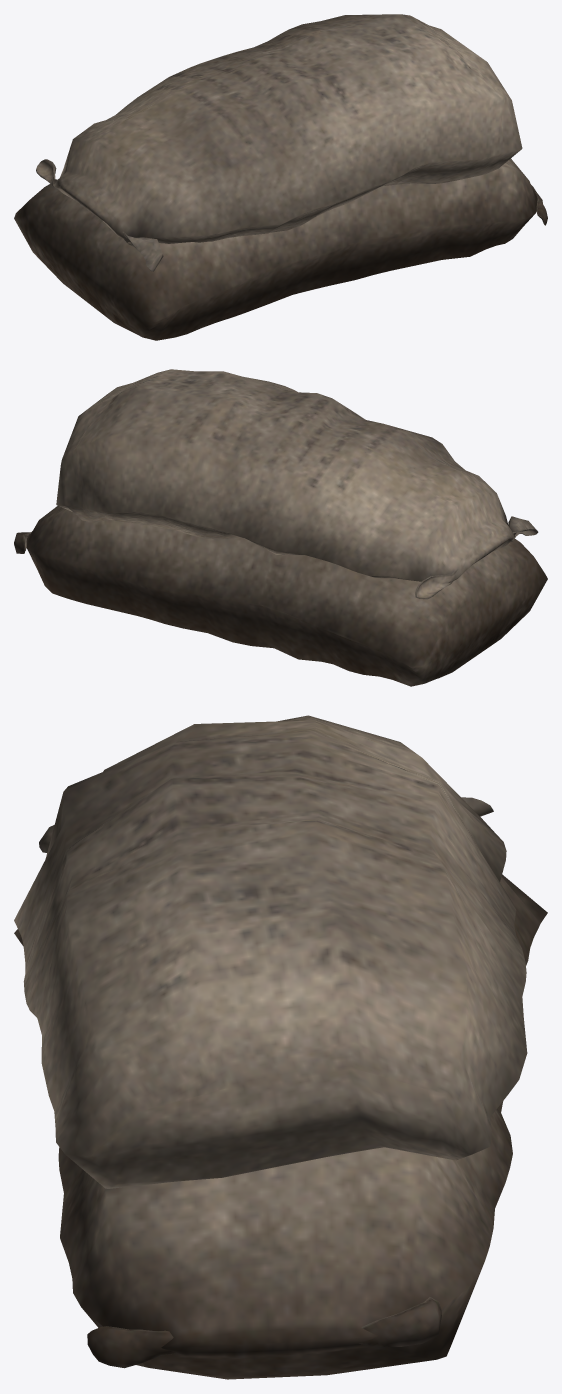
Rendered from SM_FAR_CornSack_Stack_01.fbx.
3 renders of one model, top to bottom at view 1: azimuth 30°, elevation 25°; view 2: azimuth 150°, elevation 25°; view 3: azimuth 270°, elevation 25°, orthographic. The views are drawn at different scales.
Parts seen in each view (by area): view 1: SM_FAR_CornSack_Stack_01.mo; view 2: SM_FAR_CornSack_Stack_01.mo; view 3: SM_FAR_CornSack_Stack_01.mo.
Boxes of the visible parts, <box> form: SM_FAR_CornSack_Stack_01.mo: <box>14,14,547,340</box>; SM_FAR_CornSack_Stack_01.mo: <box>14,369,547,686</box>; SM_FAR_CornSack_Stack_01.mo: <box>14,715,547,1379</box>.
Bounding box in the file's own units: 72.6 × 34.78 × 39.1.
